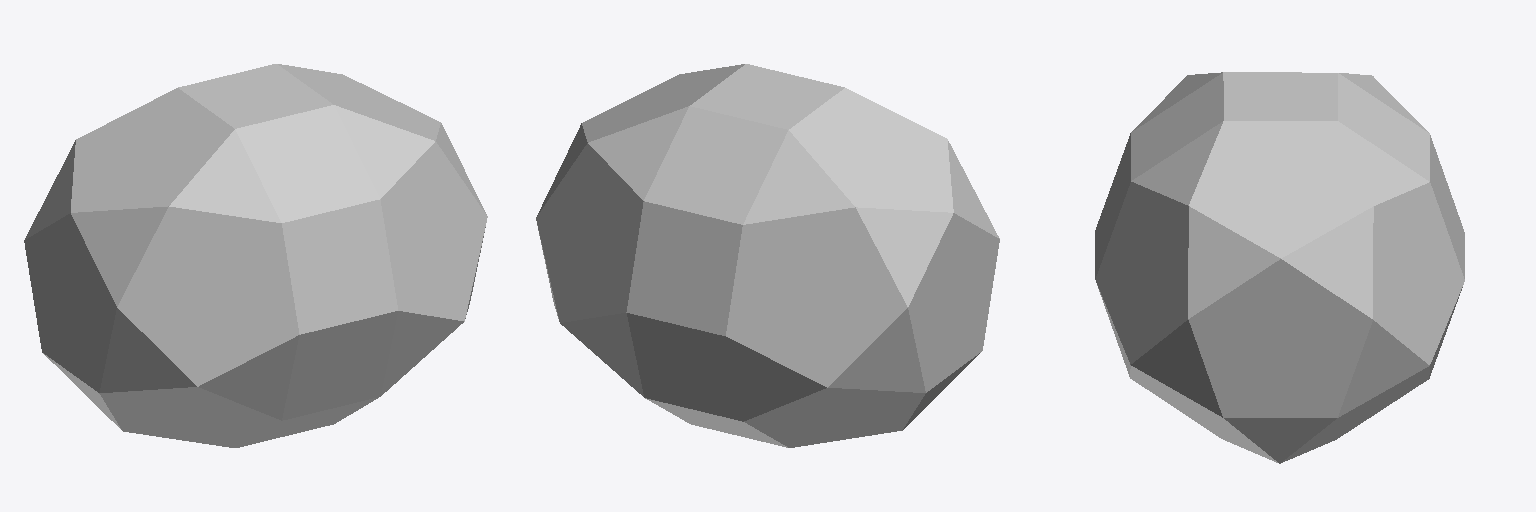
The model's file is ElongatedPentagonalOrthoBiRotunda.obj.
3 views of the same model, side by side, from view 1: azimuth 30°, elevation 25°; view 2: azimuth 150°, elevation 25°; view 3: azimuth 270°, elevation 25° (orthographic).
Visible parts, largest first — view 1: ElongatedPentagonalOrthoBiRotunda; view 2: ElongatedPentagonalOrthoBiRotunda; view 3: ElongatedPentagonalOrthoBiRotunda.
Boxes of the visible parts, <box> form: ElongatedPentagonalOrthoBiRotunda: <box>24,64,487,447</box>; ElongatedPentagonalOrthoBiRotunda: <box>536,64,999,447</box>; ElongatedPentagonalOrthoBiRotunda: <box>1095,72,1464,463</box>.
Bounding box in the file's own units: 2.82 × 2.31 × 2.43.